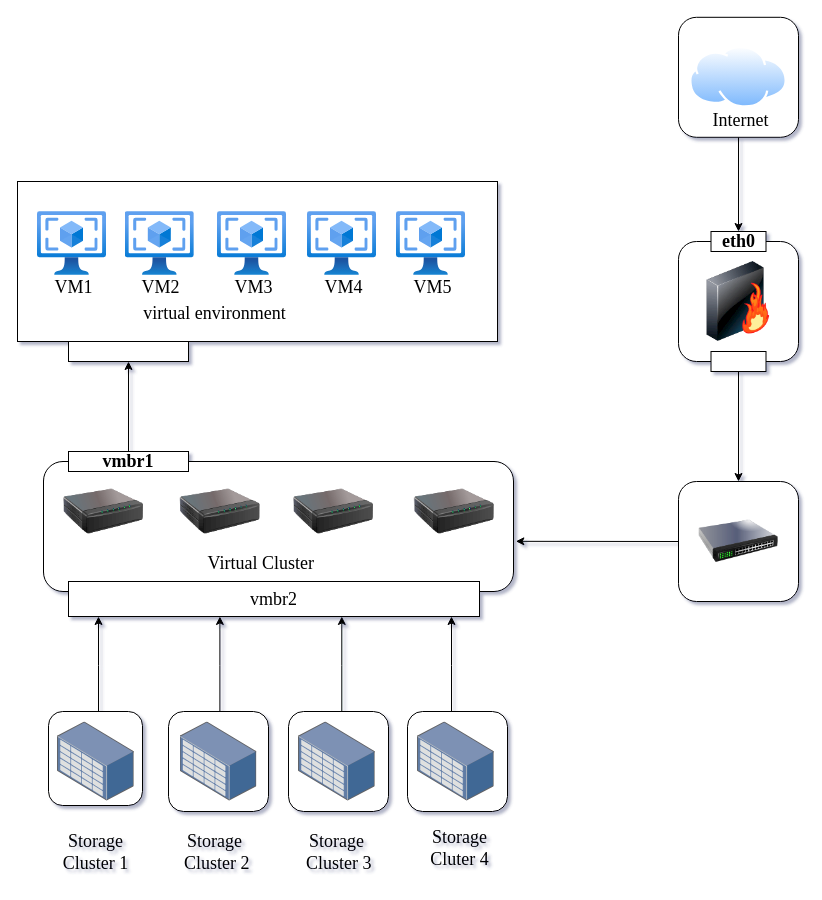
This 822x900 diagram has some shape labels left out. The shapes that lost their labels are listed below. From the top down, each one's centre as x and y in pixels, then its label:
At pixel 128 351: "wmbr1".
At pixel 738 361: "eth1".
